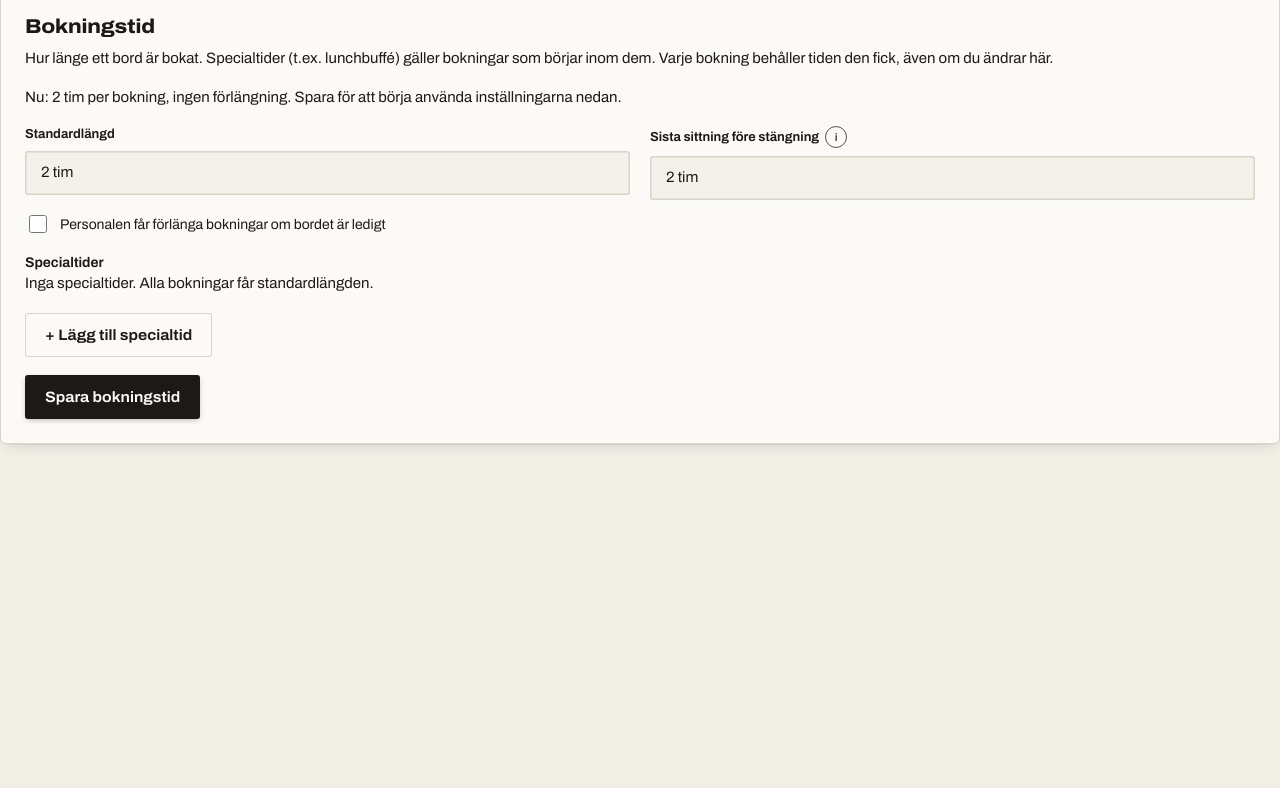
Test: BookingTimeCard › shows an older location its current length and saves new rules with a buffet
Expected: the text "Nu: 2 tim per bokning, ingen förlängning" is shown, 25,88 -> 622,104
Select "1 tim 30 min" in the dropdown labelled "Standardlängd" at (328,173), box 25,151 -> 630,195
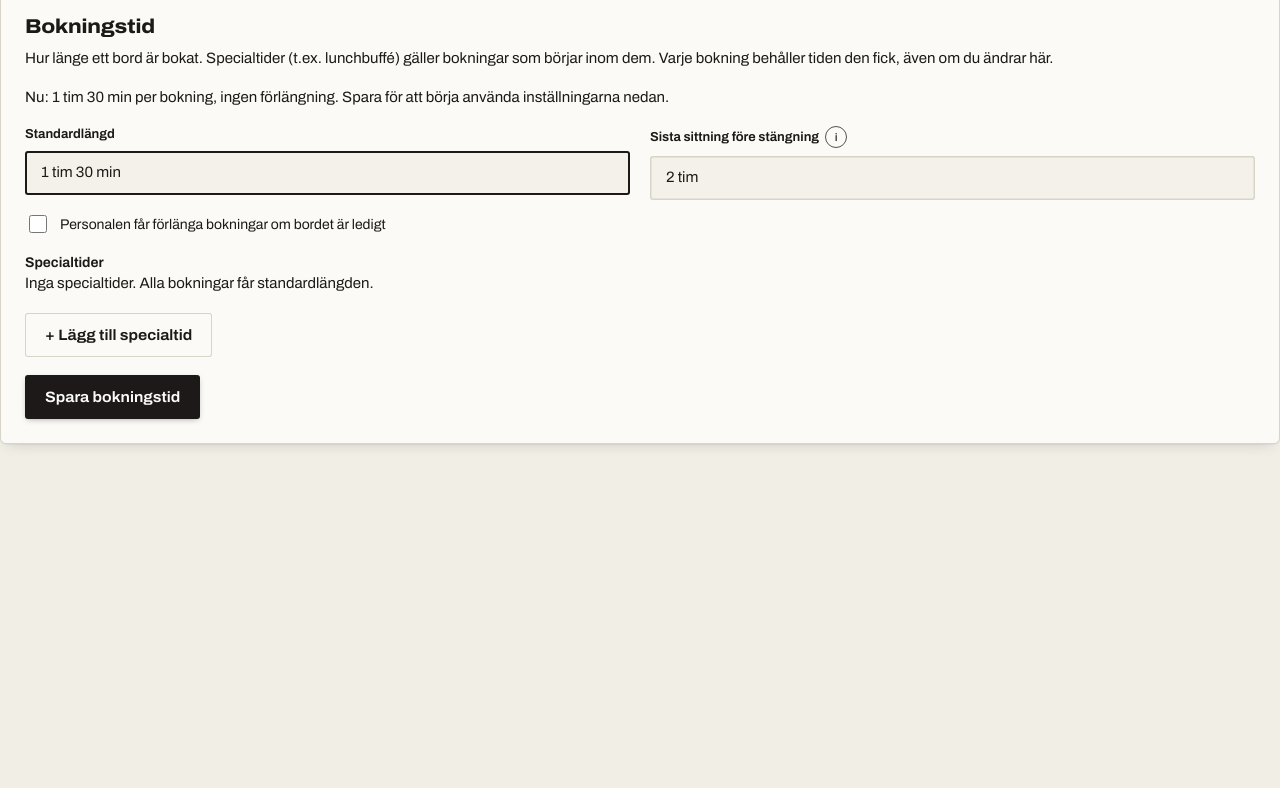
Click the checkbox labelled "Personalen får förlänga bokningar om bordet är ledigt" at (38,224), box 29,215 -> 47,233
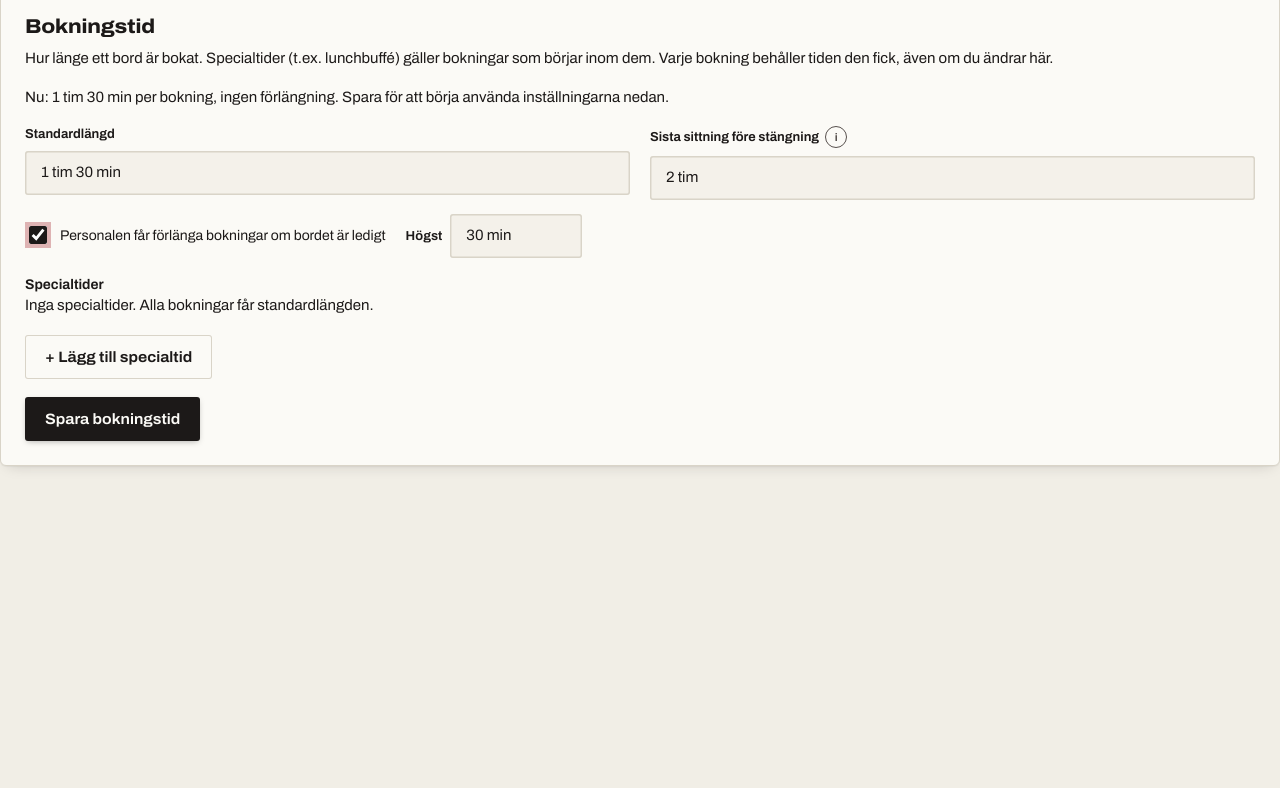
Click the button "+ Lägg till specialtid" at (119,357), box 25,335 -> 212,379
(page scrolled)
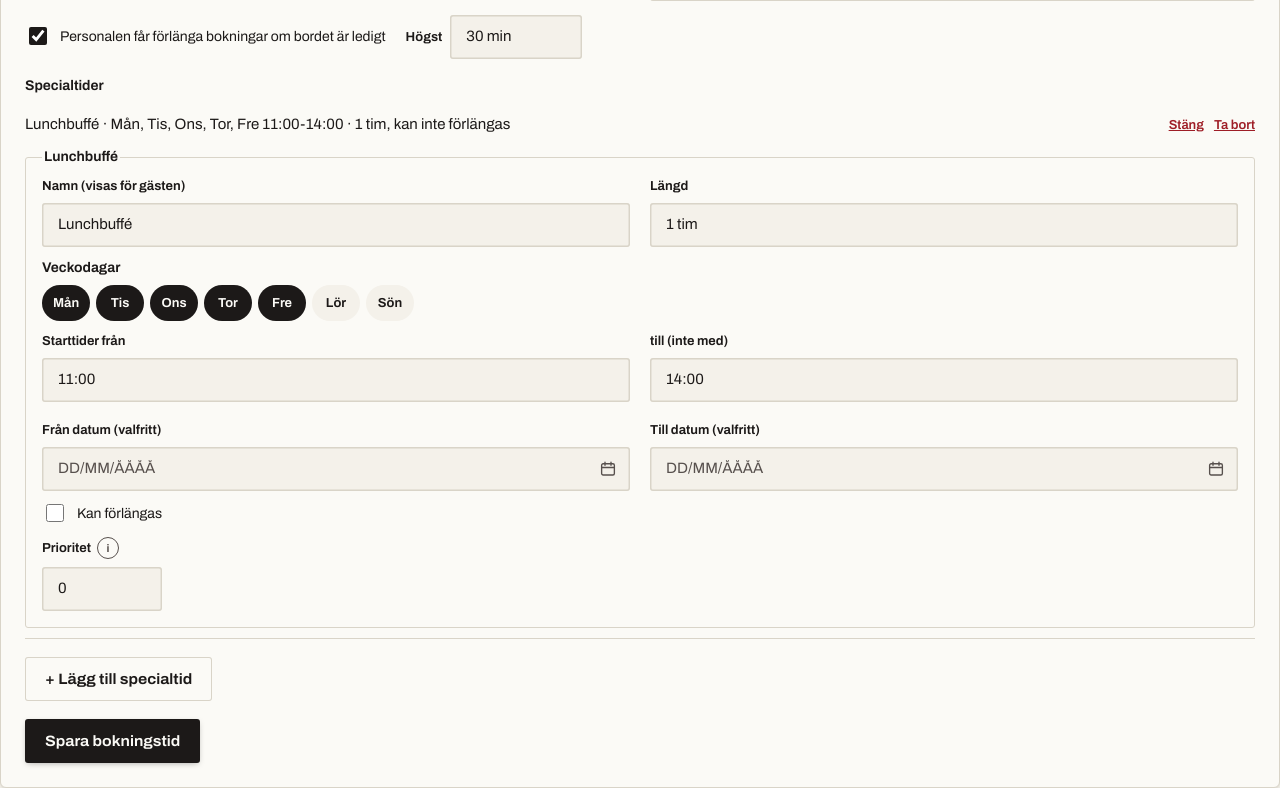
Click the button "Spara bokningstid" at (113,741), box 25,719 -> 200,763
(page scrolled)
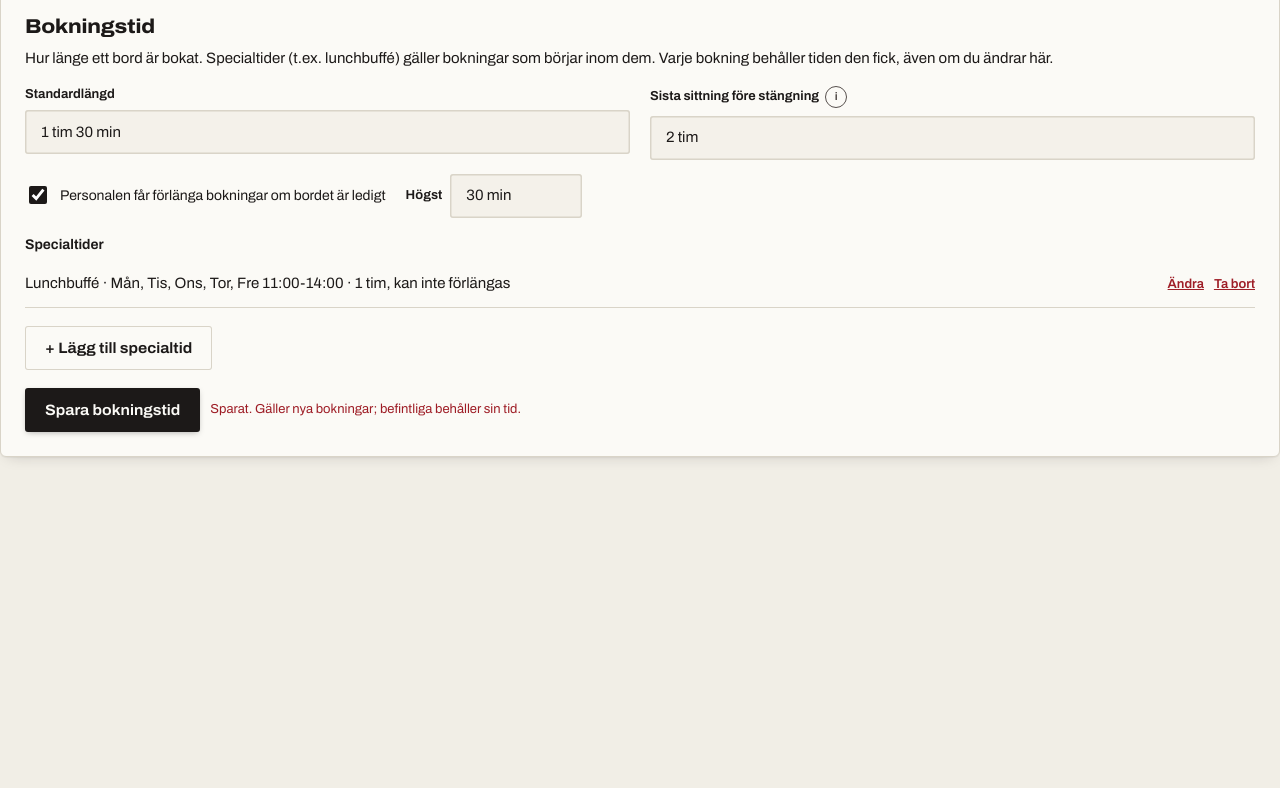
Expected: the text "Sparat. Gäller nya bokningar; befintliga behåller sin tid." is shown, 210,400 -> 521,419
